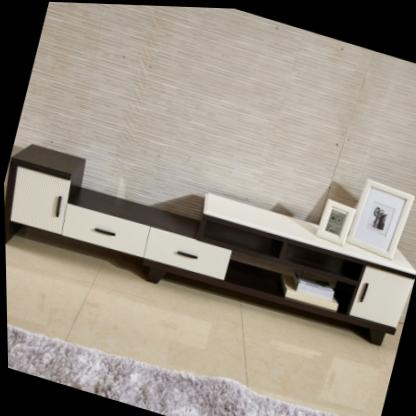TV stand: (2, 121, 416, 359)
